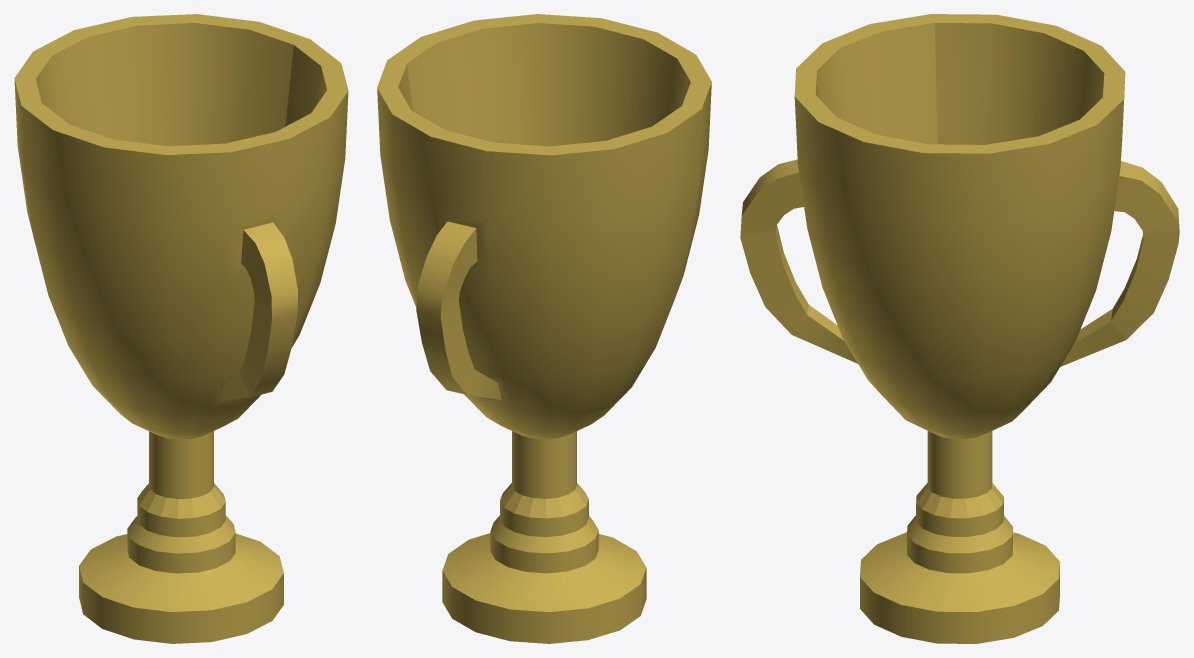
File: fbx_trophy.fbx
3 views of the same model, side by side, from view 1: azimuth 30°, elevation 25°; view 2: azimuth 150°, elevation 25°; view 3: azimuth 270°, elevation 25° (orthographic).
Visible parts, largest first — view 1: fbx_trophy; view 2: fbx_trophy; view 3: fbx_trophy.
Part boxes in pixels (left/top/right/bottom): fbx_trophy: left=14, top=14, right=348, bottom=643; fbx_trophy: left=377, top=14, right=711, bottom=643; fbx_trophy: left=740, top=14, right=1179, bottom=643.
Bounding box in the file's own units: 0.3487 × 0.6016 × 0.4631.
1 material, 1 textured.
